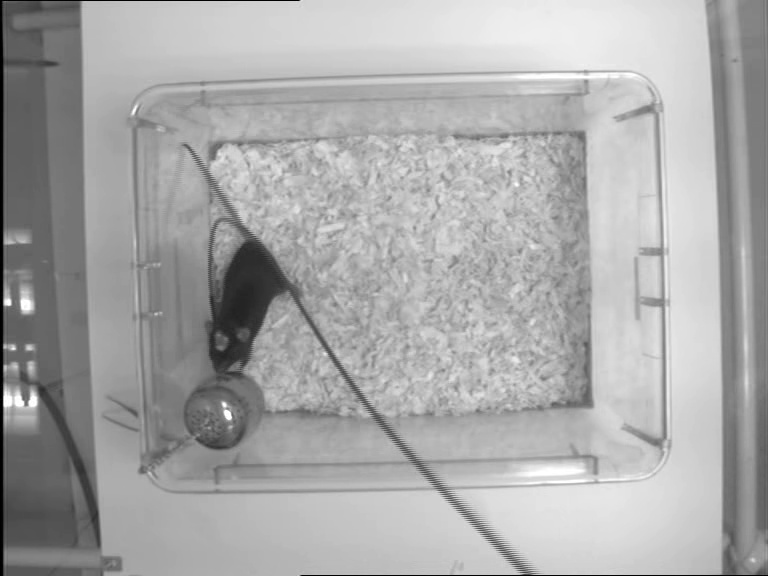mice: (202, 217, 301, 378)
